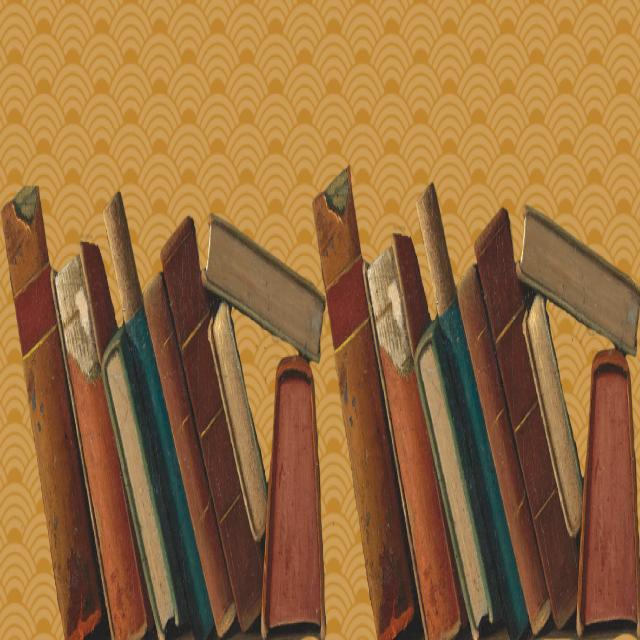Books: (416, 184, 529, 640), (312, 169, 418, 639), (104, 194, 212, 638), (1, 187, 104, 639), (475, 207, 579, 631), (161, 217, 264, 633), (368, 233, 468, 639), (54, 256, 154, 640), (458, 266, 551, 634), (144, 273, 236, 638), (414, 320, 502, 638), (101, 330, 188, 638), (202, 214, 325, 361), (518, 207, 640, 355), (261, 358, 325, 638), (522, 296, 582, 539), (208, 302, 268, 541)
